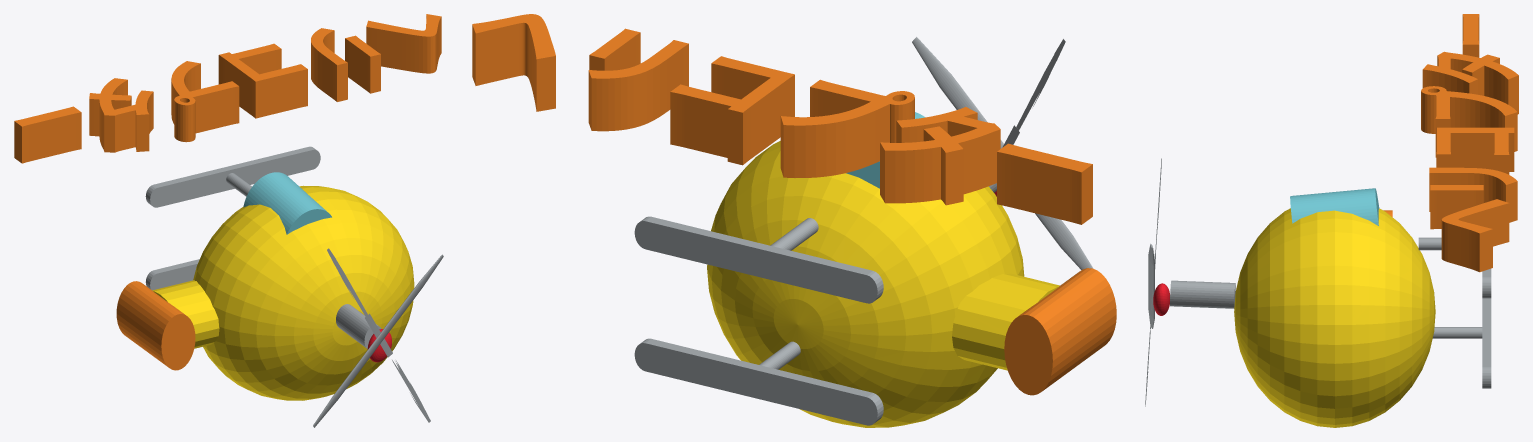
The model's file is tinker.obj.
3 renders of one model, left to right at view 1: azimuth 30°, elevation 25°; view 2: azimuth 150°, elevation 25°; view 3: azimuth 270°, elevation 25°, orthographic. The views are drawn at different scales.
Parts seen in each view (by area): view 1: group_0_16768282, group_0_16089887, group_0_10988977, group_0_7720667; view 2: group_0_16089887, group_0_16768282, group_0_10988977; view 3: group_0_16768282, group_0_16089887, group_0_10988977, group_0_7720667, group_0_15277357.
Boxes of the visible parts, x1=… form: group_0_16768282: x1=152, y1=185, x2=414, y2=400; group_0_16089887: x1=14, y1=14, x2=441, y2=370; group_0_10988977: x1=145, y1=146, x2=443, y2=427; group_0_7720667: x1=243, y1=172, x2=331, y2=234; group_0_16089887: x1=472, y1=14, x2=1116, y2=395; group_0_16768282: x1=707, y1=141, x2=1059, y2=427; group_0_10988977: x1=634, y1=37, x2=1093, y2=425; group_0_16768282: x1=1234, y1=208, x2=1435, y2=427; group_0_16089887: x1=1383, y1=14, x2=1518, y2=272; group_0_10988977: x1=1145, y1=158, x2=1491, y2=406; group_0_7720667: x1=1290, y1=188, x2=1379, y2=225; group_0_15277357: x1=1153, y1=283, x2=1169, y2=315.
Size of the model in its own units: 30 by 18.42 by 21.58.
